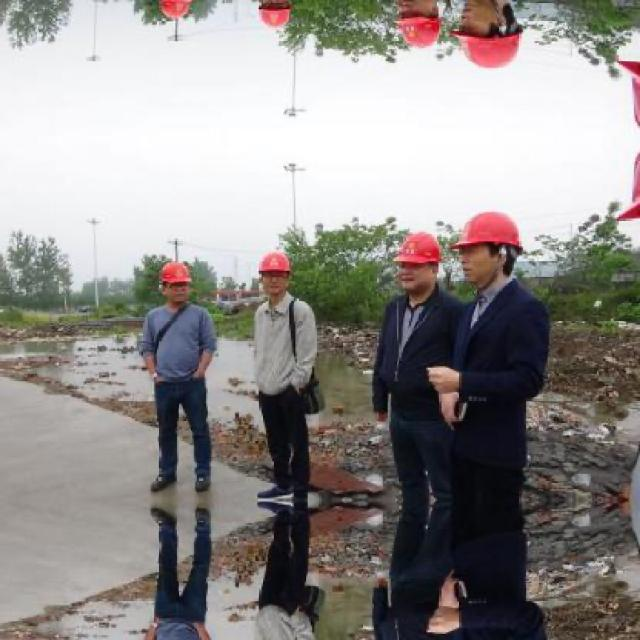helmet: (457, 208, 525, 284), (456, 0, 524, 71), (392, 228, 446, 294), (392, 0, 448, 51), (255, 245, 297, 297), (158, 258, 197, 302), (256, 0, 298, 34), (158, 0, 198, 20)
